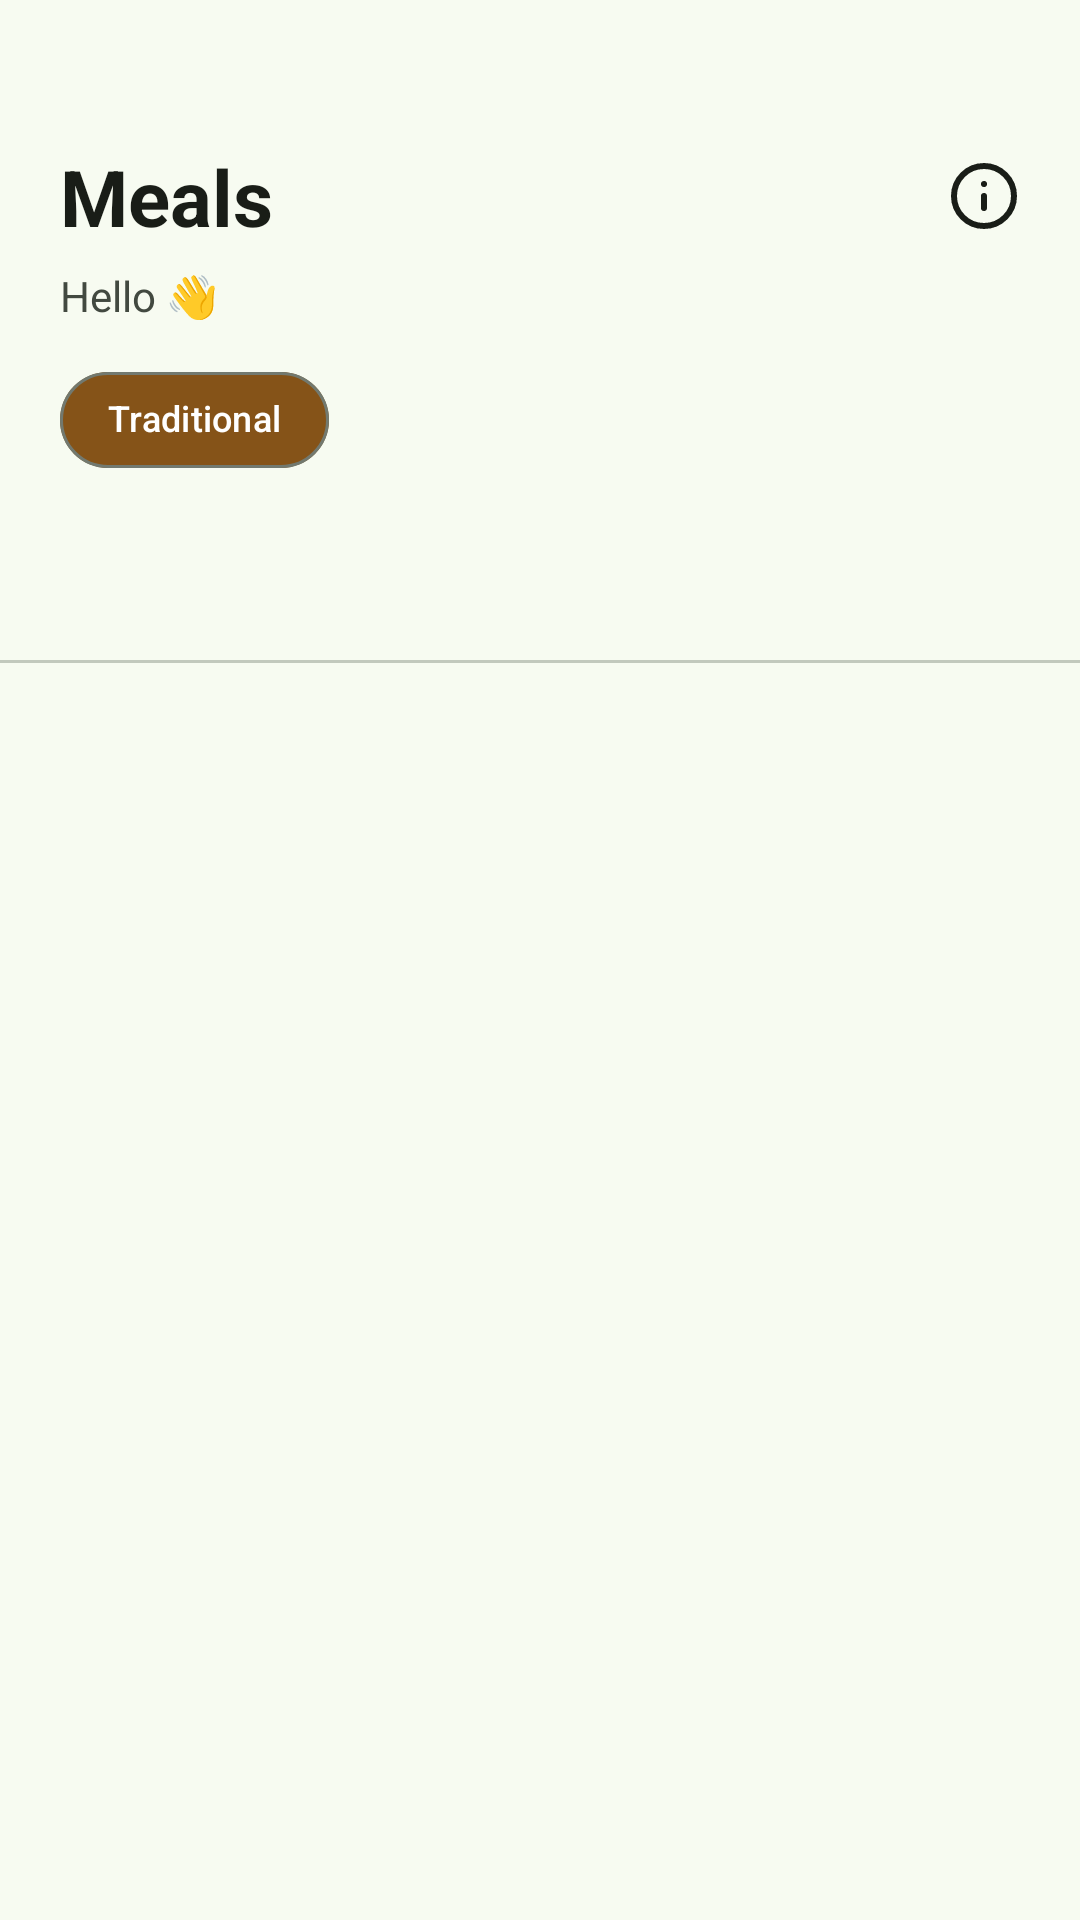

Icons on this 1080×1920 Android screen, each with the point to tap as (x,y):
info: (984,196)
